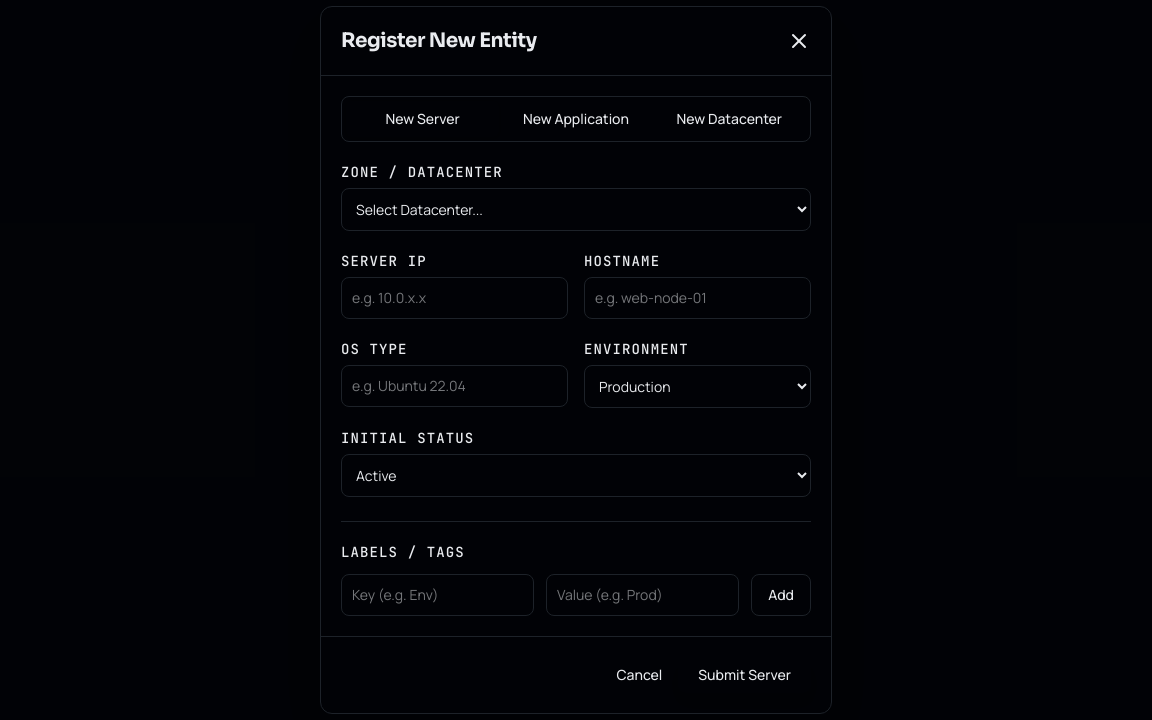
RegisterModal › switches to app mode when toggle is clicked
What coordinates should you click on to do the following:
click the button "New Application"
I would click on:
 (576, 119)
Its box is [499,101,653,137].
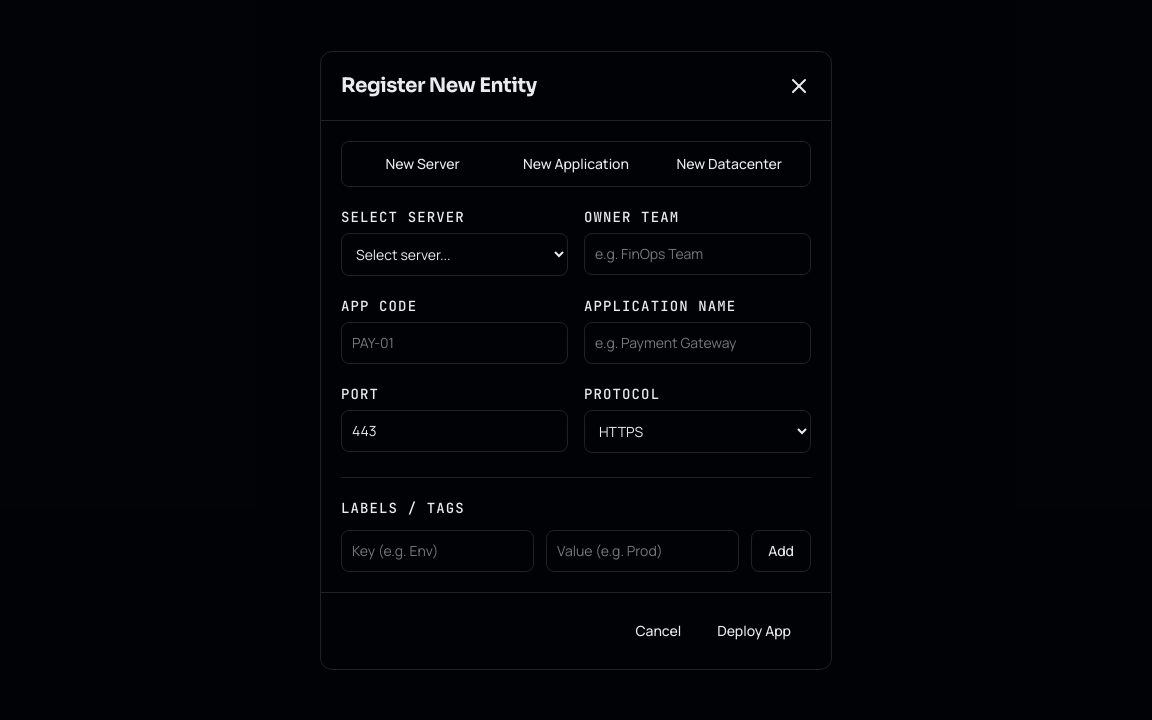
Expected: the dropdown labelled "Select Server" is shown, [341,232,568,276]
Expected: the field labelled "App Code" is shown, [341,322,568,364]
Expected: the field labelled "Application Name" is shown, [584,322,811,364]
